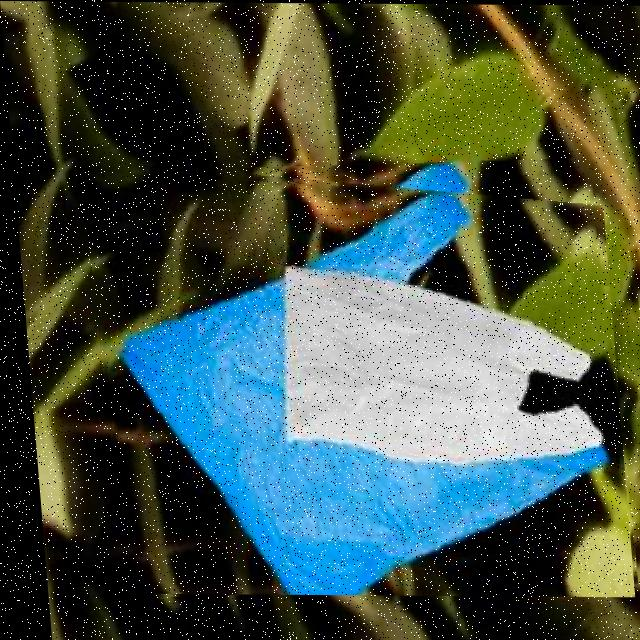plasticcover: (80, 158, 625, 595), (262, 207, 612, 468)
